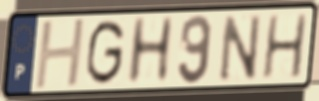9: (177, 12, 214, 87)
G: (84, 18, 128, 88)
H: (32, 16, 88, 93), (123, 14, 177, 88), (259, 11, 309, 81)
N: (218, 12, 264, 84)
